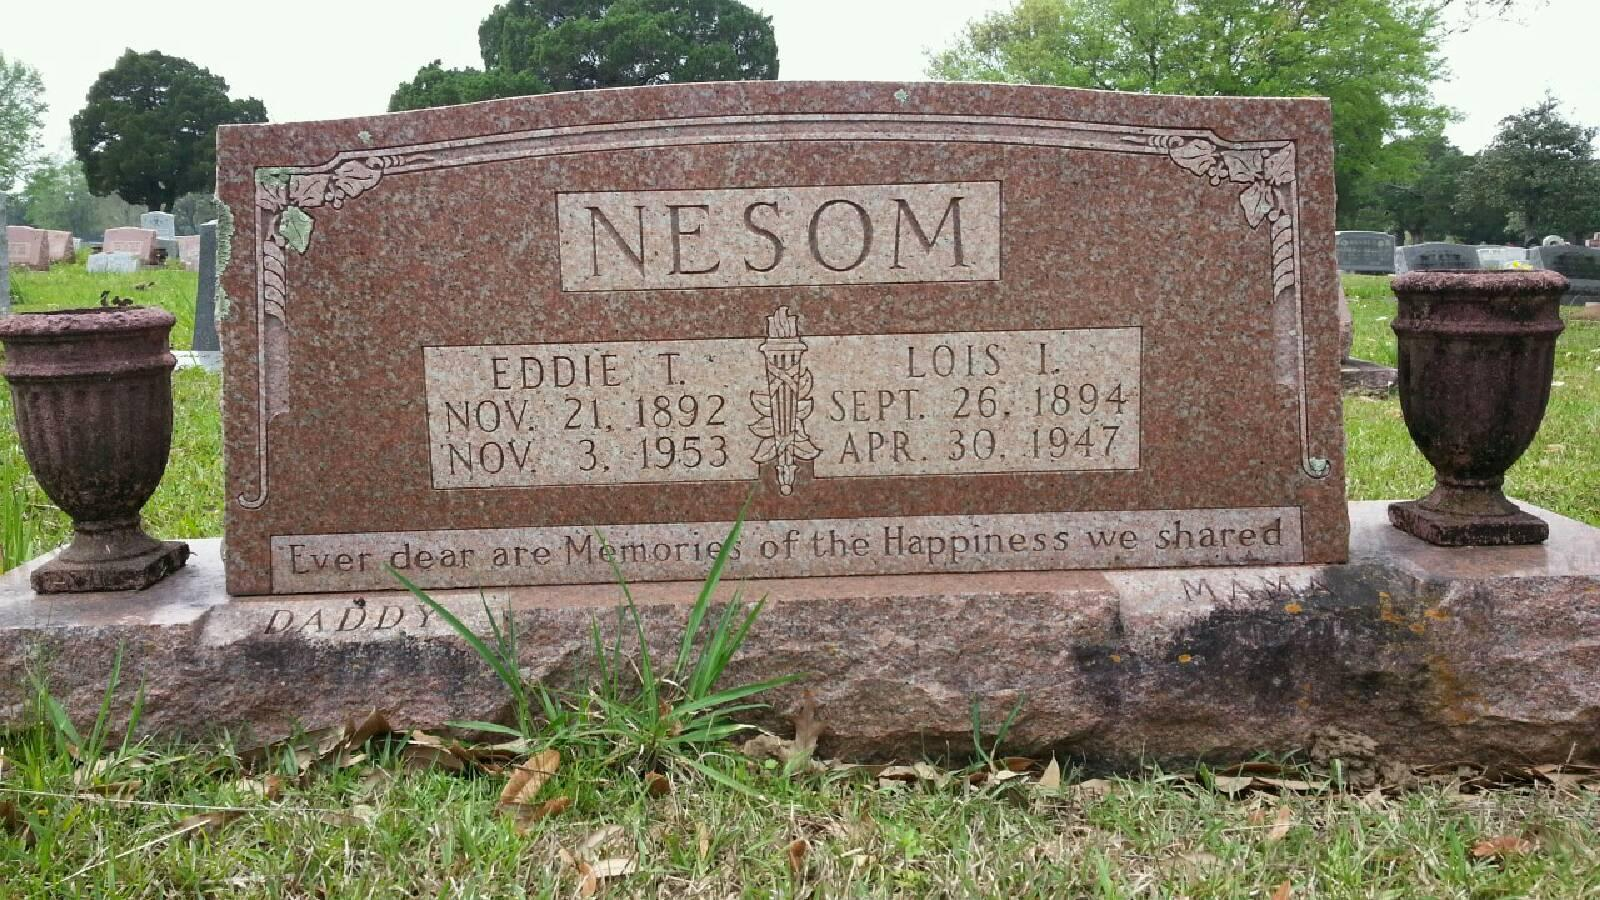upright: (3, 79, 1599, 785)
